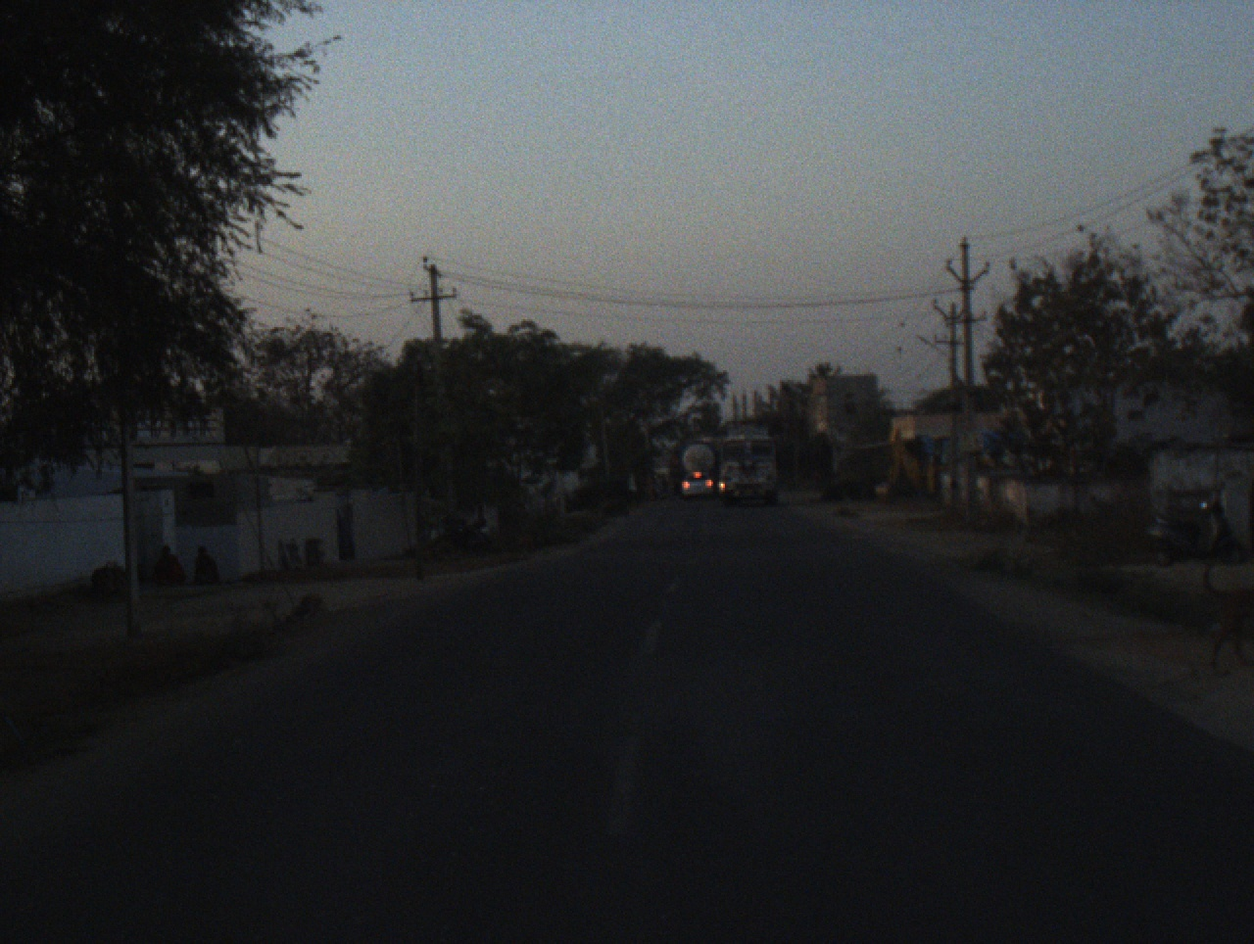car: (680, 468, 713, 496)
motorcycle: (1143, 485, 1234, 569), (465, 513, 490, 547)
truck: (712, 418, 782, 504), (671, 440, 719, 492)
